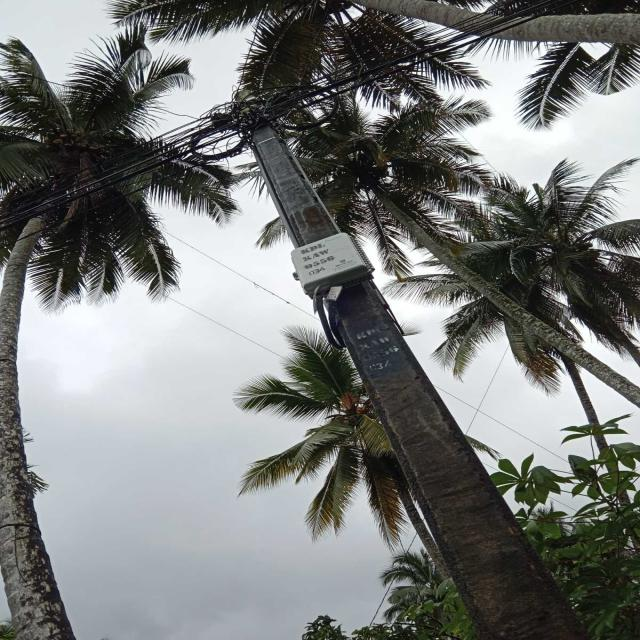light_pole: (224, 100, 591, 640)
